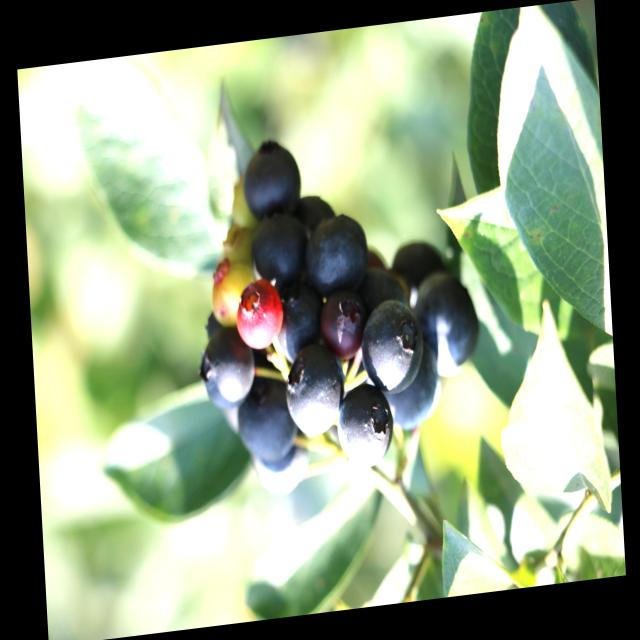blueberry: (407, 260, 486, 384), (354, 288, 429, 404), (278, 329, 352, 445), (372, 332, 448, 442), (243, 200, 317, 300), (330, 377, 400, 481), (236, 128, 306, 230), (234, 370, 304, 471), (299, 206, 375, 296), (270, 269, 333, 369), (191, 328, 260, 418), (310, 279, 374, 369), (388, 228, 454, 308), (247, 429, 314, 504), (281, 184, 345, 258), (352, 257, 412, 332), (202, 295, 246, 351)
blueberry-halfripe: (237, 284, 284, 351)
blueberry-unripe: (210, 259, 255, 327)
